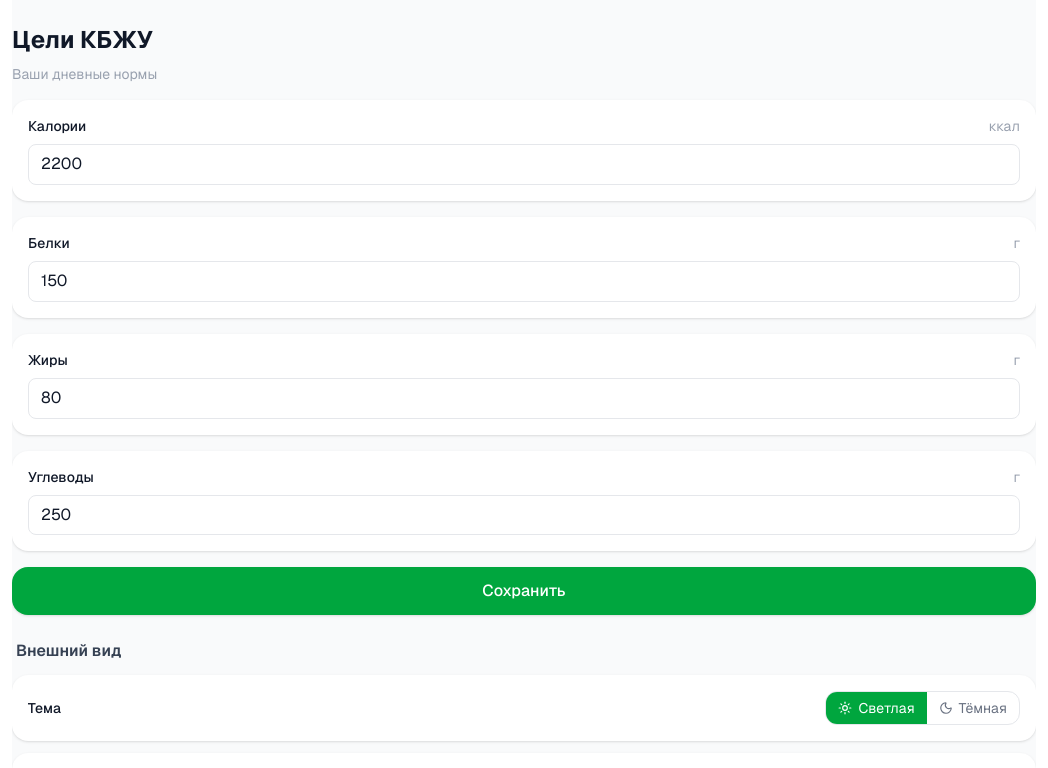
SettingsClient › save_ShouldShowError_WhenSaveFails
The image size is (1048, 768).
Click the button "Сохранить": (524, 591) [12,567,1036,615]
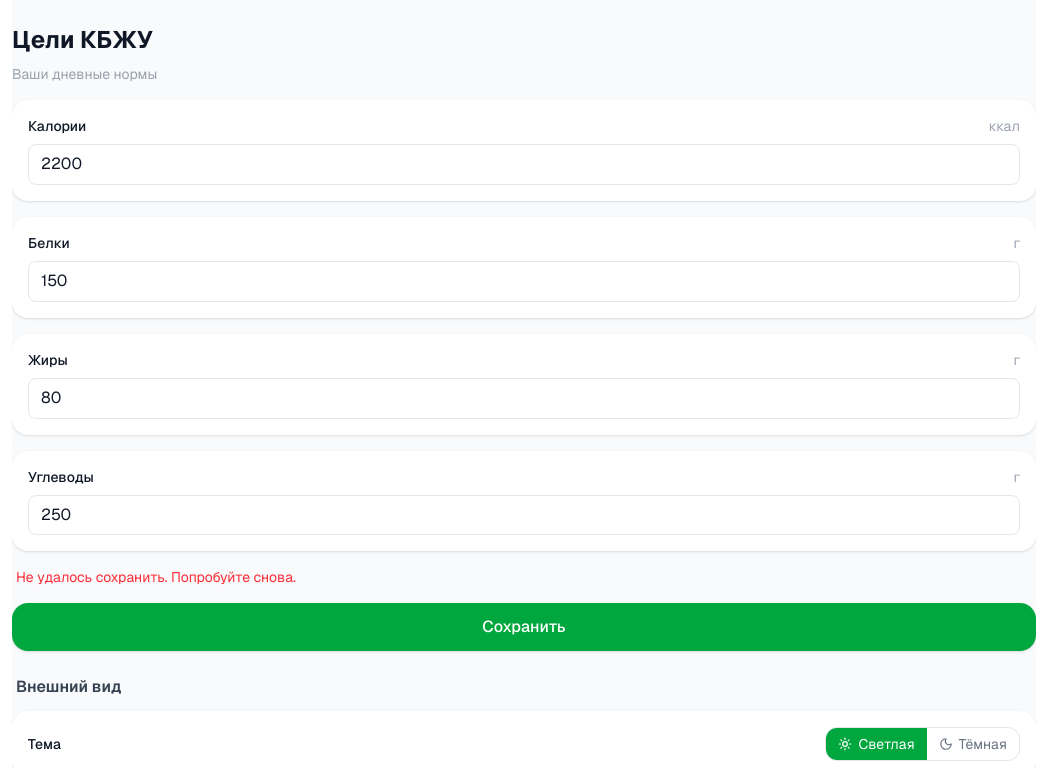
Check: the text "Не удалось сохранить. Попробуйте снова." is shown, box [16,568,296,586]
